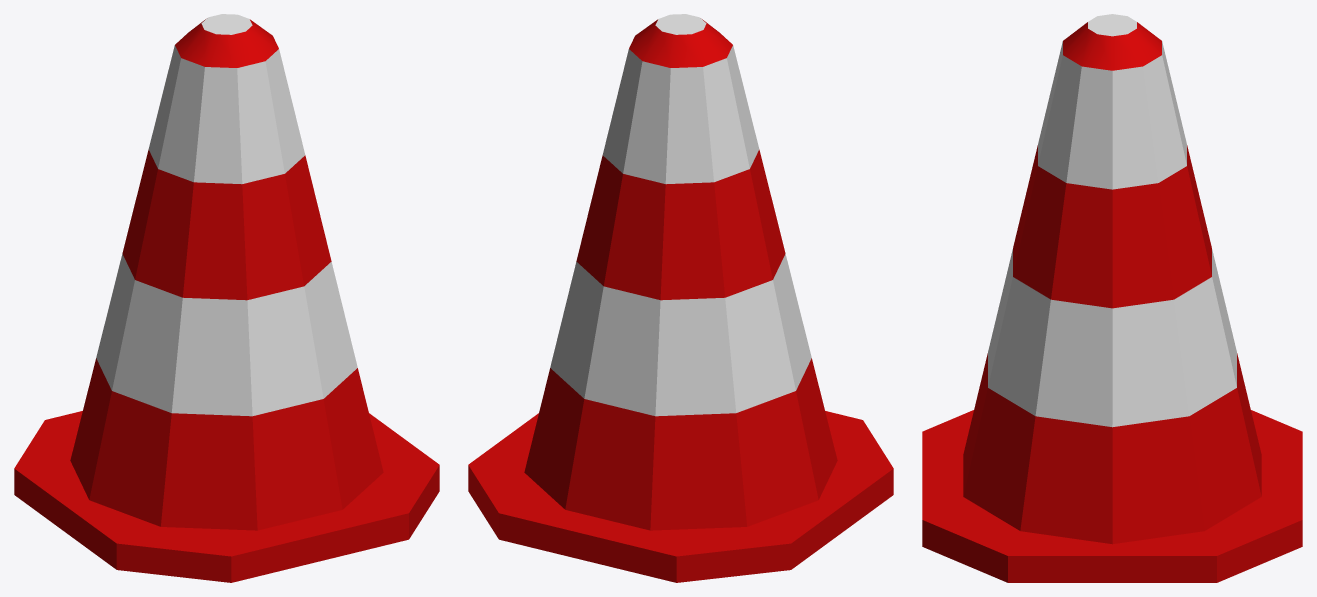
The model's file is Konys.fbx.
3 renders of one model, left to right at view 1: azimuth 30°, elevation 25°; view 2: azimuth 150°, elevation 25°; view 3: azimuth 270°, elevation 25°, orthographic.
Parts seen in each view (by area): view 1: Konus; view 2: Konus; view 3: Konus.
Part boxes in pixels (x1,y1,x2,y2): Konus: (14,14,439,582); Konus: (468,14,893,582); Konus: (922,14,1302,582).
Bounding box in the file's own units: 1.14 × 1.58 × 1.14.
